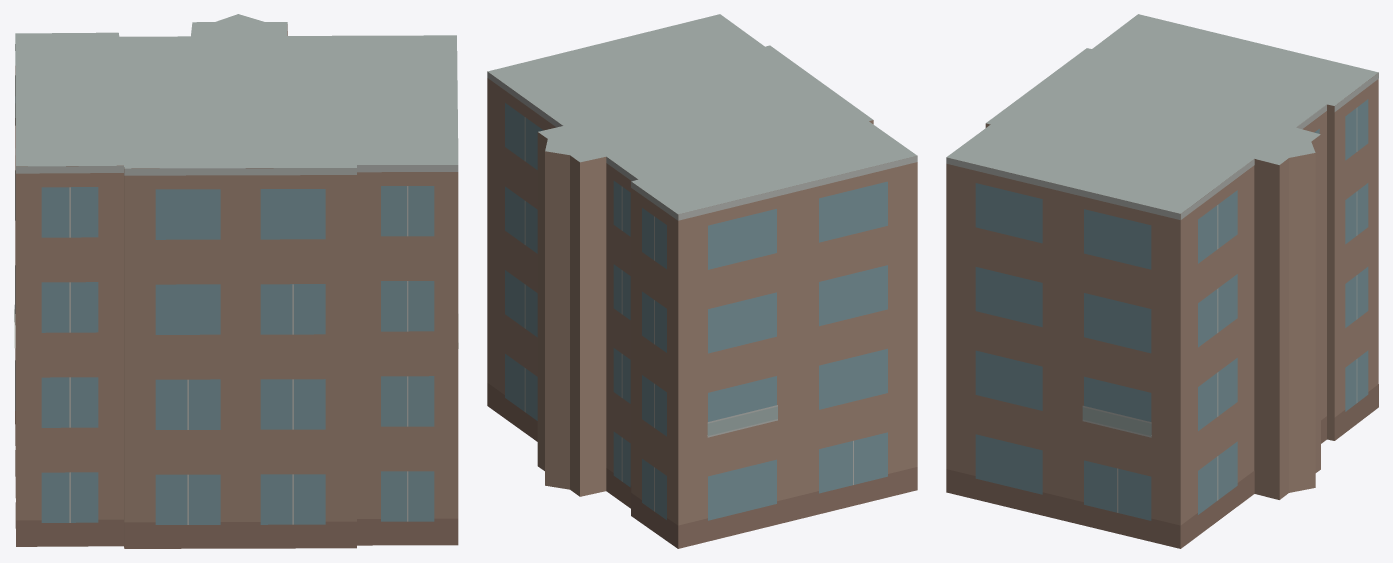
File: survey-upis-32706617.glb
3 renders of one model, left to right at view 1: azimuth 30°, elevation 25°; view 2: azimuth 150°, elevation 25°; view 3: azimuth 270°, elevation 25°, orthographic. The views are drawn at different scales.
Visible parts, largest first — view 1: survey-upis-32706617.tmp; view 2: survey-upis-32706617.tmp; view 3: survey-upis-32706617.tmp.
Boxes of the visible parts, box(x1,y1,x2,y2) form: survey-upis-32706617.tmp: box(14, 14, 458, 548); survey-upis-32706617.tmp: box(487, 14, 917, 548); survey-upis-32706617.tmp: box(946, 14, 1378, 548).
Size of the model in its own units: 16.51 by 12.9 by 15.1.
